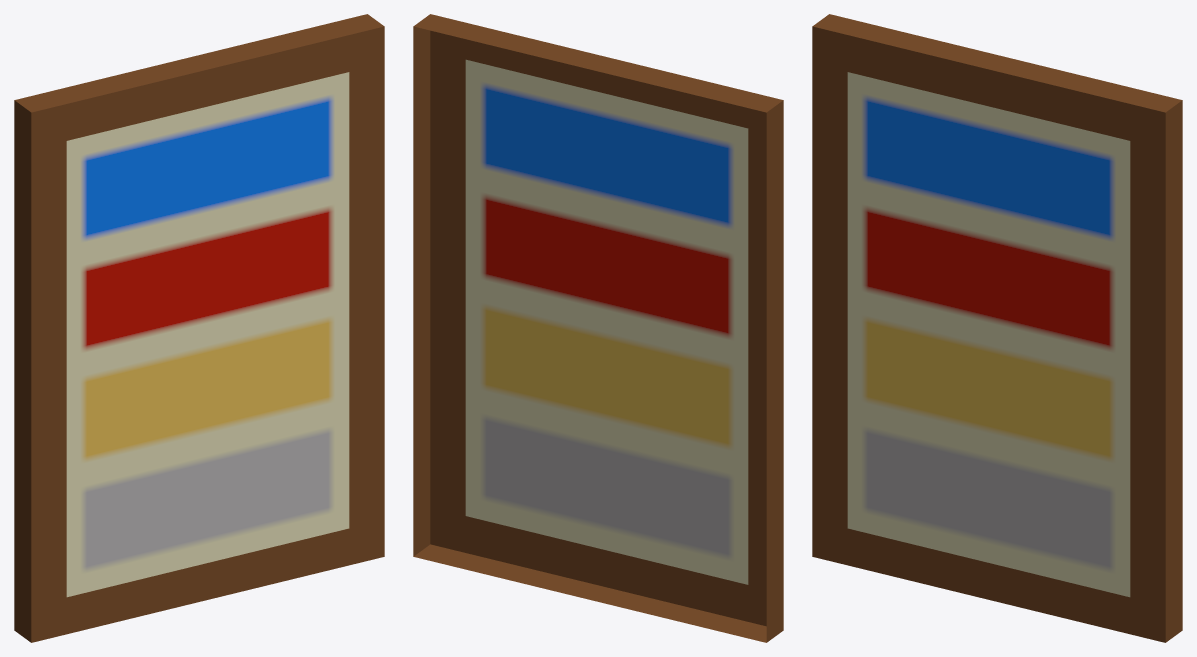
The model's file is Paint_5.fbx.
3 views of the same model, side by side, from view 1: azimuth 30°, elevation 25°; view 2: azimuth 150°, elevation 25°; view 3: azimuth 330°, elevation 25° (orthographic).
Parts seen in each view (by area): view 1: polySurface1562; view 2: polySurface1562; view 3: polySurface1562.
Part boxes in pixels (x1,y1,x2,y2): polySurface1562: (14,14,384,642); polySurface1562: (413,14,783,642); polySurface1562: (812,14,1182,642).
Bounding box in the file's own units: 0.9 × 1.29 × 0.075.
1 material, 1 textured.
